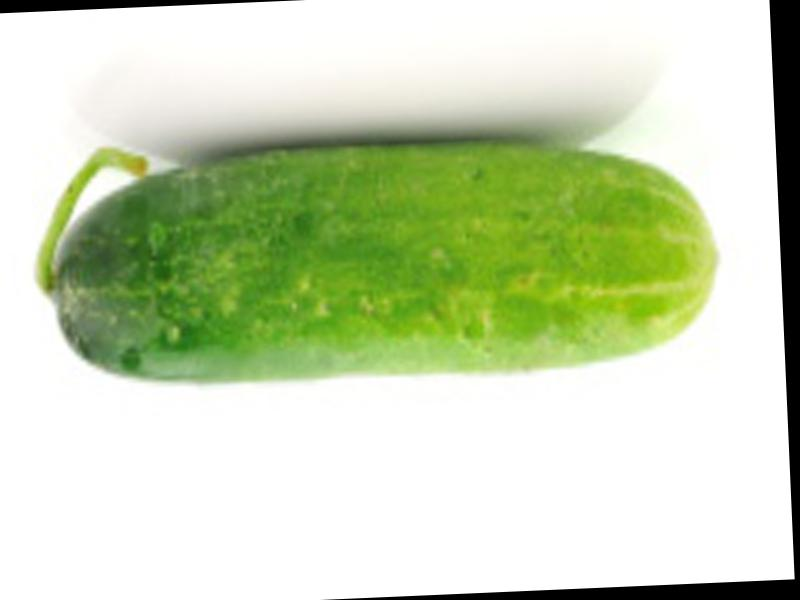Cucumber: (35, 121, 729, 391)
